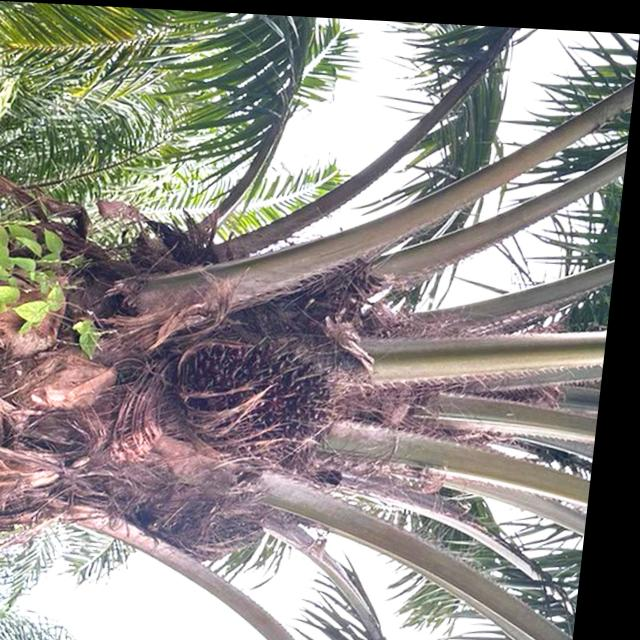ripe: (182, 314, 362, 453)
